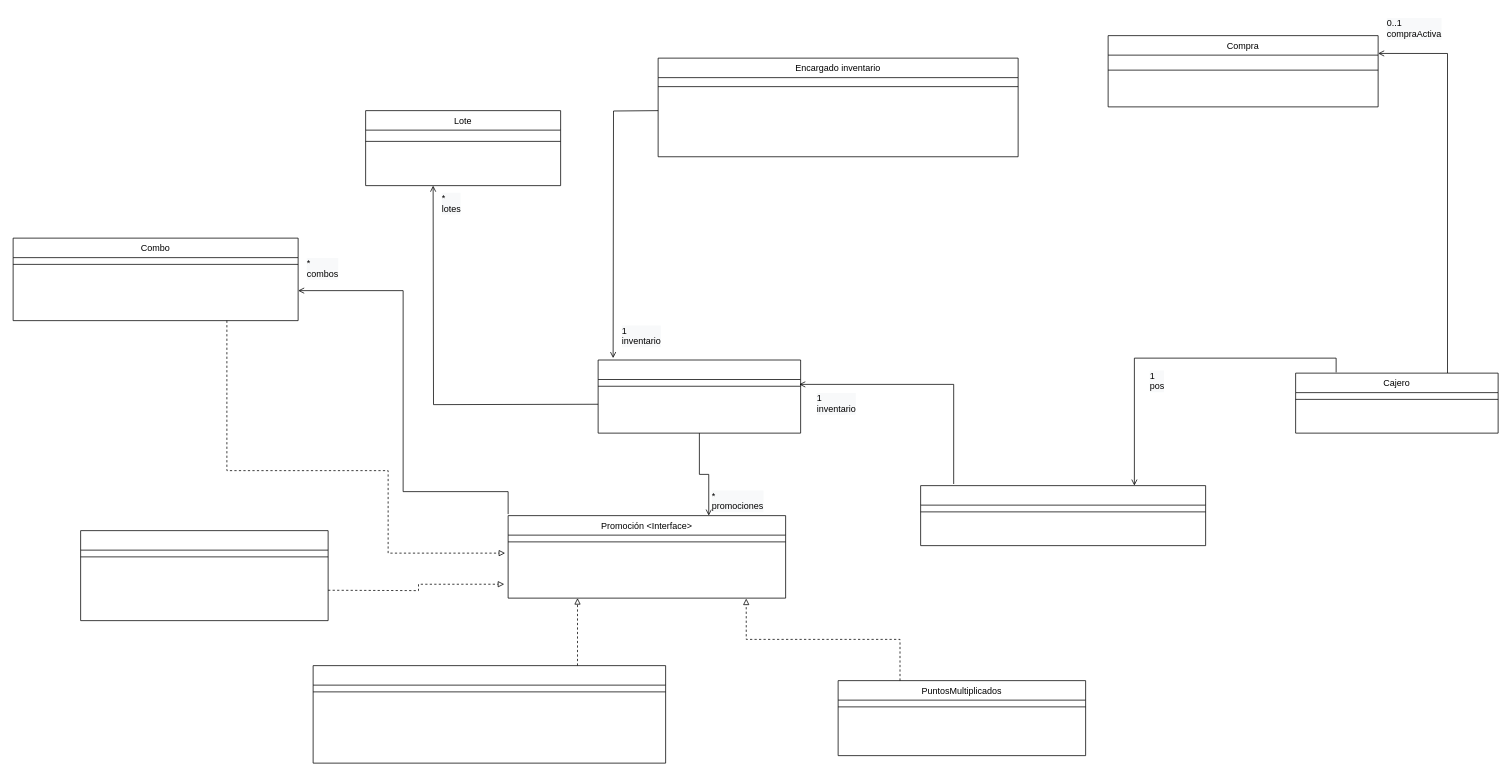
Image size: 1511x776. Some labels were removed from this diagram. Here are the shapes that lost their labels. From the top down, the centre of each, then its label:
At [699,396]: "Inventario".
At [1063,515]: "Ventas (POS)".
At [204,575]: "Regalo".
At [489,714]: "Descuento".
